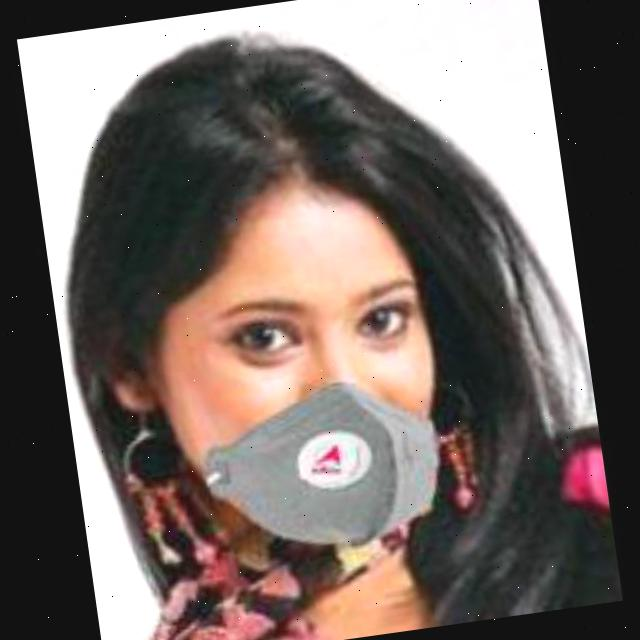suspicion: (112, 129, 486, 569)
